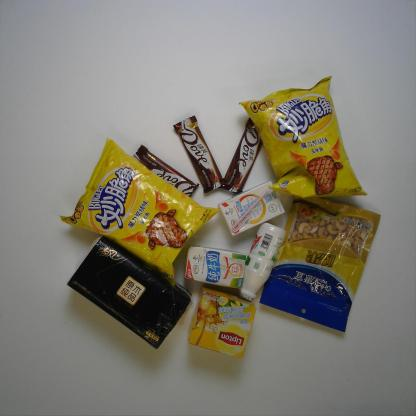Chocolate: (173, 115, 225, 194), (132, 143, 200, 198), (220, 116, 263, 194)
Dried Fruit: (257, 196, 381, 336)
Instant Drink: (187, 286, 257, 360)
Milk: (237, 222, 287, 303), (218, 180, 286, 238), (183, 244, 247, 290)
Puffed Food: (58, 136, 223, 287), (238, 74, 368, 201)
Tissue: (65, 233, 194, 352)
